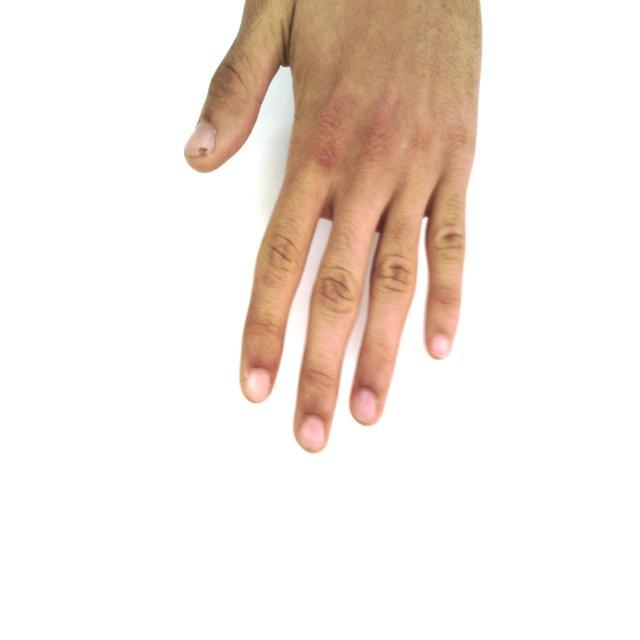Fingernail: (185, 119, 216, 155), (246, 370, 272, 401), (355, 390, 378, 423), (301, 417, 325, 448), (431, 335, 449, 358)
